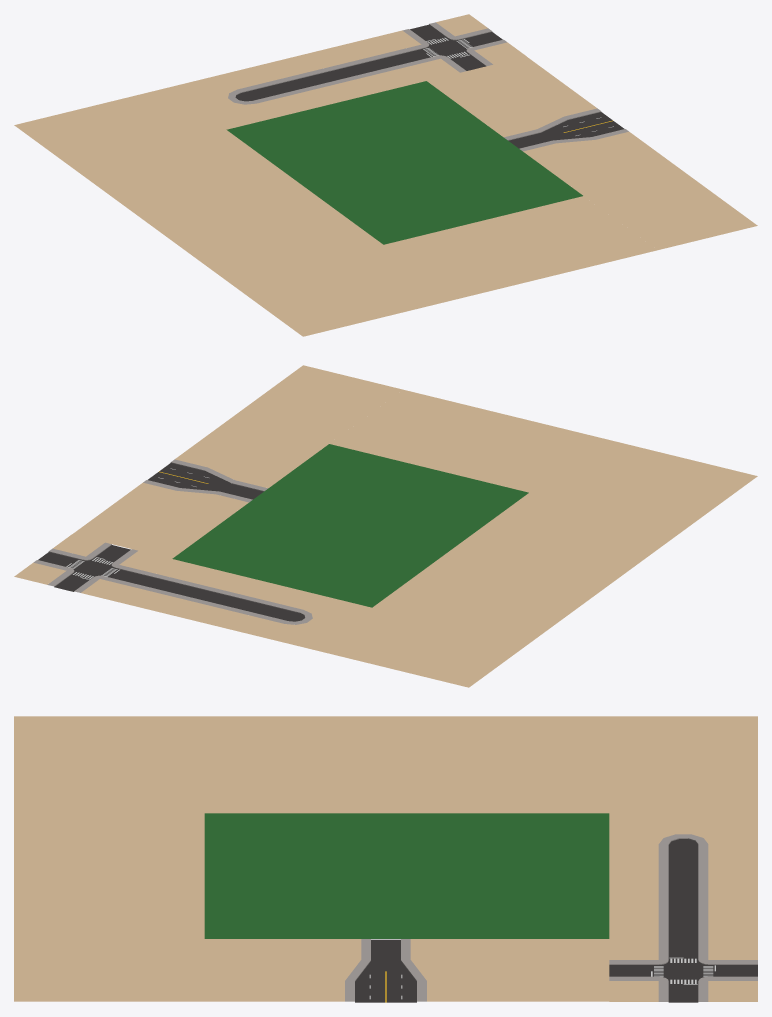
The model's file is road-zone-farm.glb.
The picture shows the model from 3 angles, top to bottom: view 1: azimuth 30°, elevation 25°; view 2: azimuth 150°, elevation 25°; view 3: azimuth 270°, elevation 25°; orthographic projection. The views are drawn at different scales.
Parts seen in each view (by area): view 1: tile-plain-nb.092, tile-road-to-mainroad-nb, tile-plain-nb.001, tile-road-straight-nb.008, tile-road-end-nb.006, tile-road-intersection-nb.001; view 2: tile-plain-nb.092, tile-road-to-mainroad-nb, tile-road-intersection-nb.001, tile-road-straight-nb.008, tile-plain-nb.001, tile-road-end-nb.006; view 3: tile-plain-nb.092, tile-road-to-mainroad-nb, tile-plain-nb.001, tile-road-end-nb.006, tile-road-straight-nb.008, tile-road-intersection-nb.001.
Boxes of the visible parts, <box> form: tile-plain-nb.092: <box>14,81,657,336</box>; tile-road-to-mainroad-nb: <box>485,99,757,249</box>; tile-plain-nb.001: <box>427,56,583,123</box>; tile-road-straight-nb.008: <box>269,38,426,105</box>; tile-road-end-nb.006: <box>169,63,325,129</box>; tile-road-intersection-nb.001: <box>369,14,526,80</box>; tile-plain-nb.092: <box>172,389,757,687</box>; tile-road-to-mainroad-nb: <box>130,365,402,516</box>; tile-road-intersection-nb.001: <box>14,534,171,600</box>; tile-road-straight-nb.008: <box>114,559,271,625</box>; tile-plain-nb.001: <box>72,492,229,558</box>; tile-road-end-nb.006: <box>214,583,371,649</box>; tile-plain-nb.092: <box>14,716,757,938</box>; tile-road-to-mainroad-nb: <box>14,939,460,1002</box>; tile-plain-nb.001: <box>460,939,609,1001</box>; tile-road-end-nb.006: <box>609,813,757,876</box>; tile-road-straight-nb.008: <box>609,876,757,939</box>; tile-road-intersection-nb.001: <box>609,939,757,1002</box>.
Bounding box in the file's own units: 136 × 0.2002 × 150.
